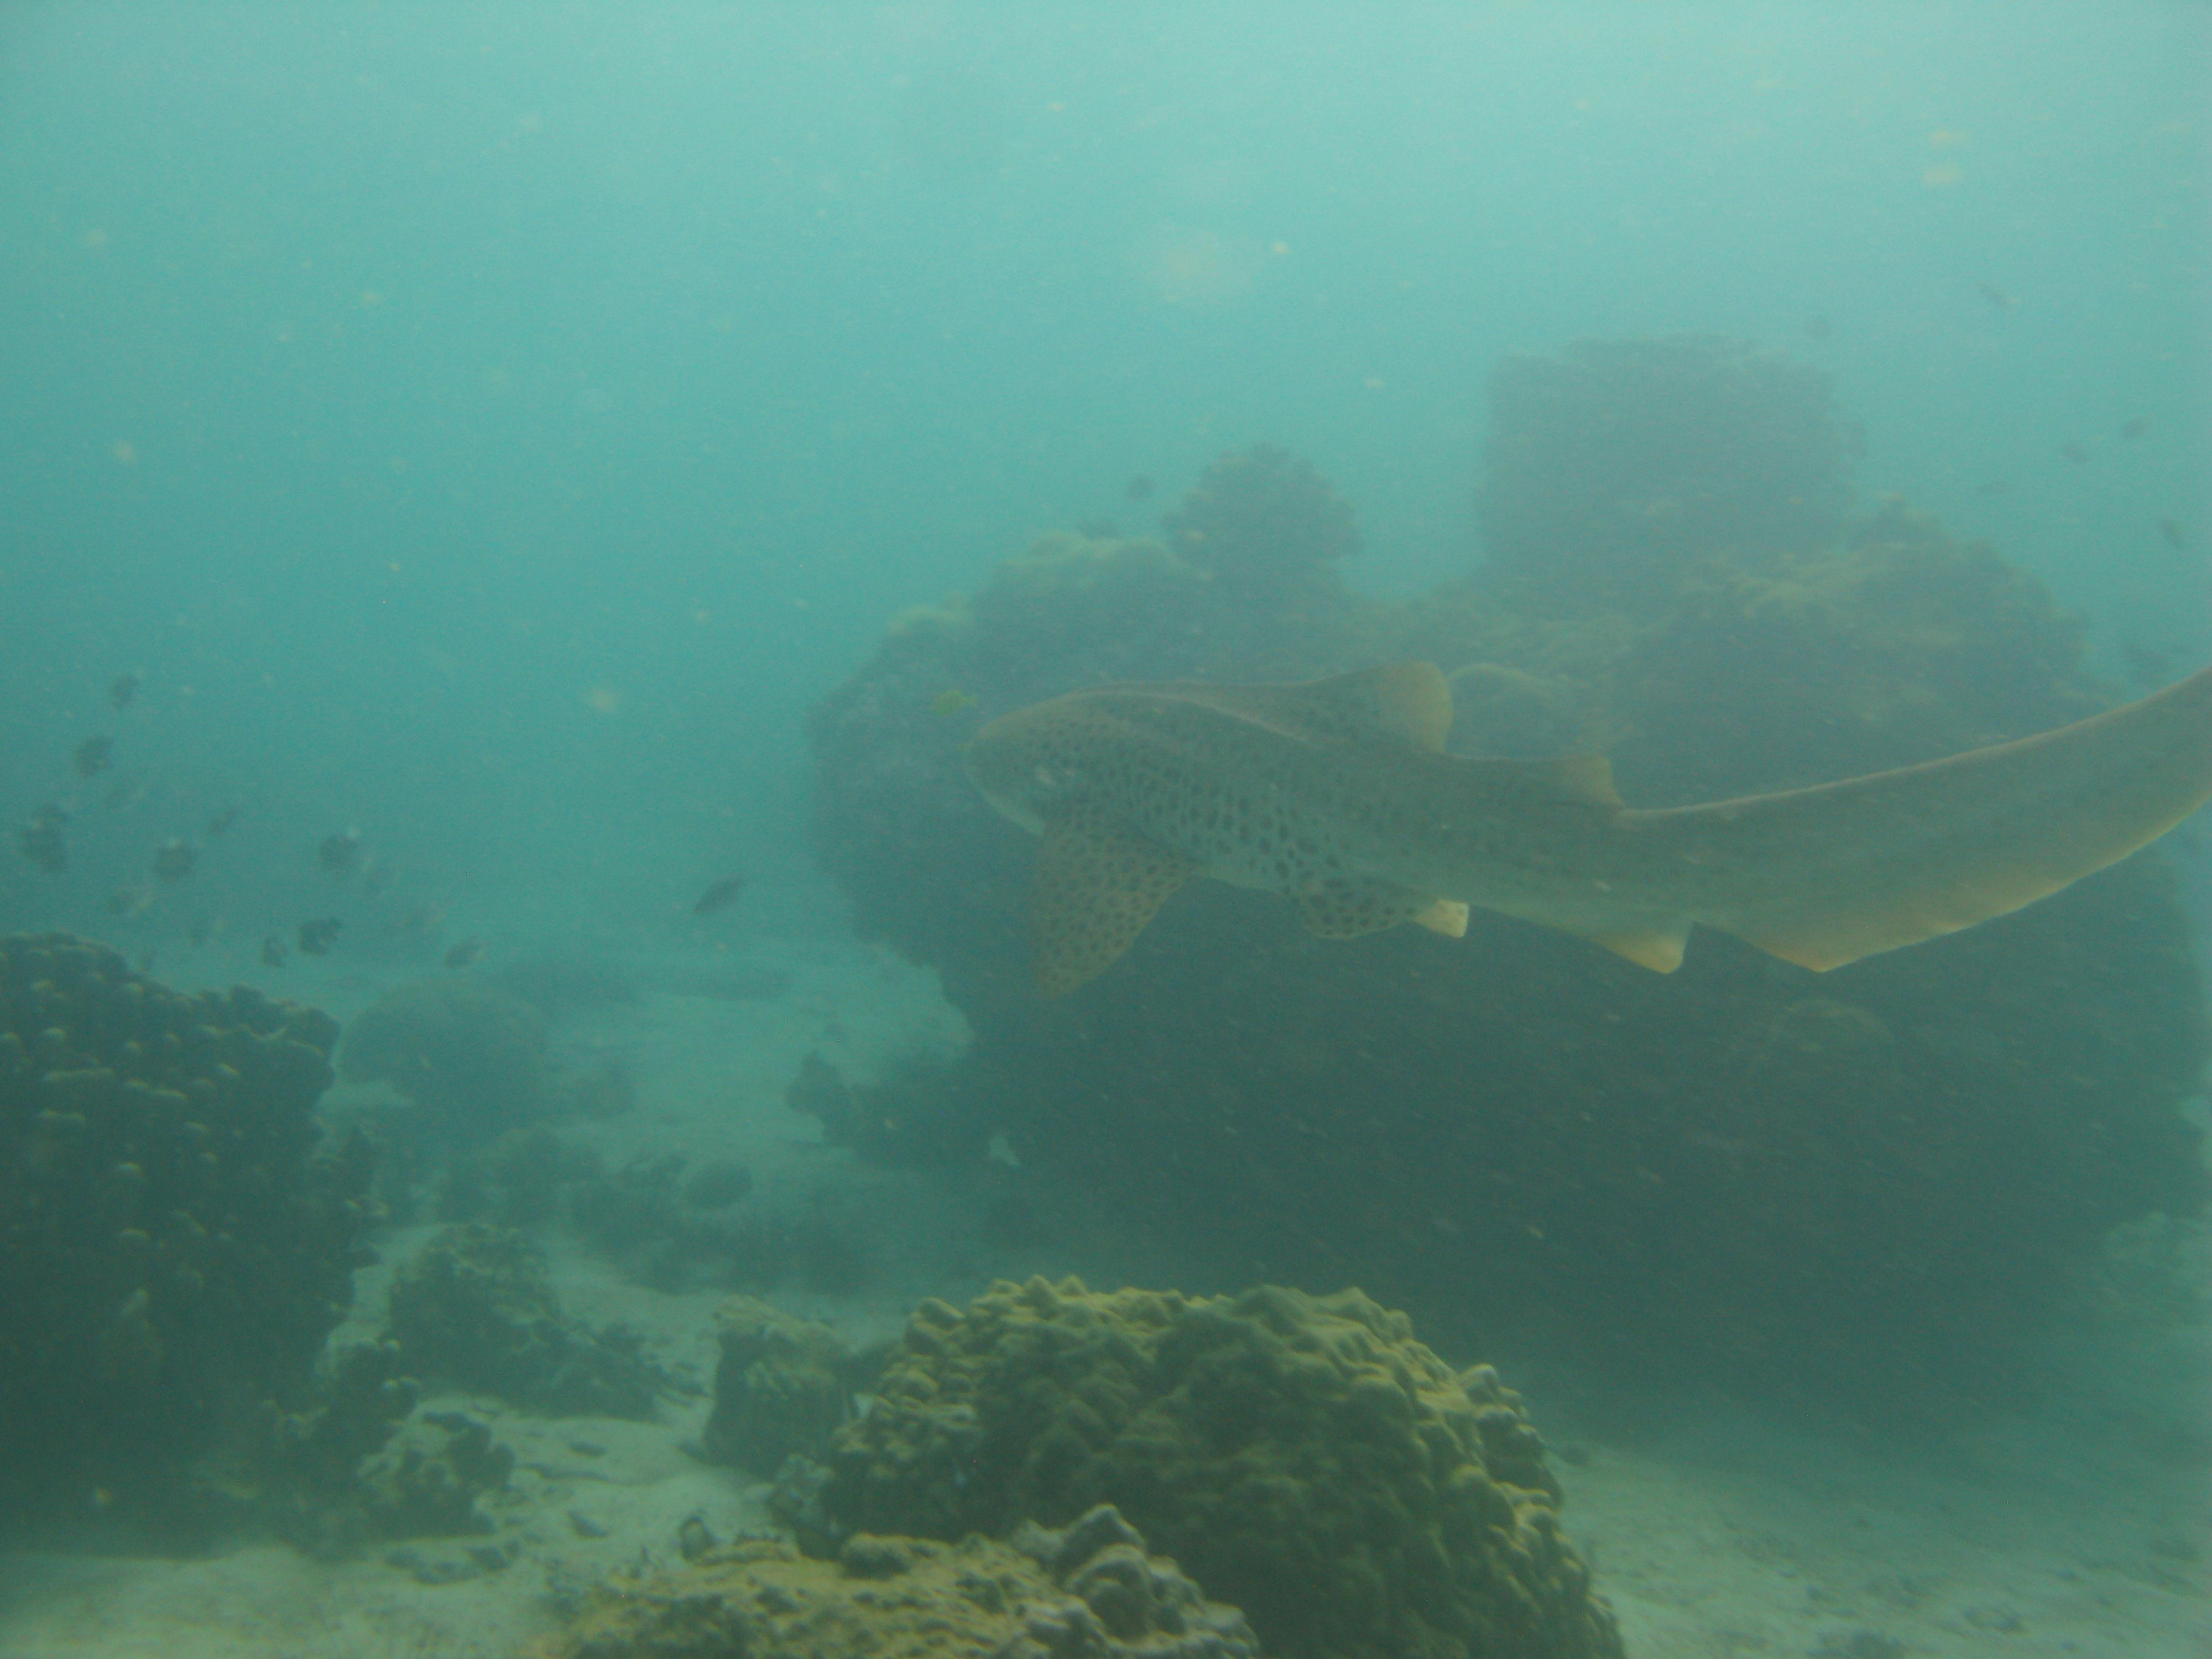Fish: (930, 622, 2212, 1040)
